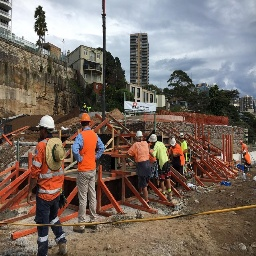helmet: (39, 113, 55, 132), (80, 112, 91, 124), (149, 134, 159, 143), (136, 131, 143, 137), (172, 139, 176, 146)
no-vest: (134, 142, 148, 164), (155, 141, 167, 164)
person: (29, 111, 71, 256), (72, 111, 105, 234), (148, 132, 174, 206), (130, 130, 152, 203), (169, 135, 186, 176), (180, 131, 189, 169)
vest: (35, 136, 66, 198)
